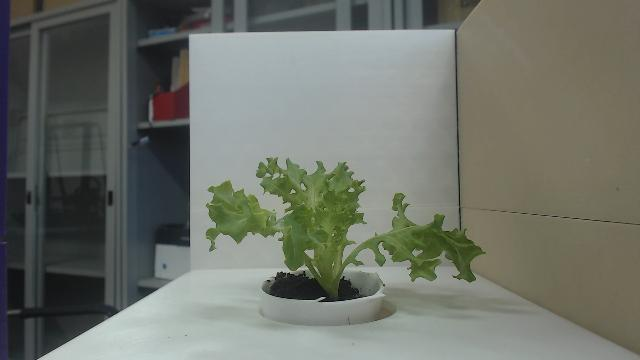Vegetative Stage: (204, 153, 488, 304)
